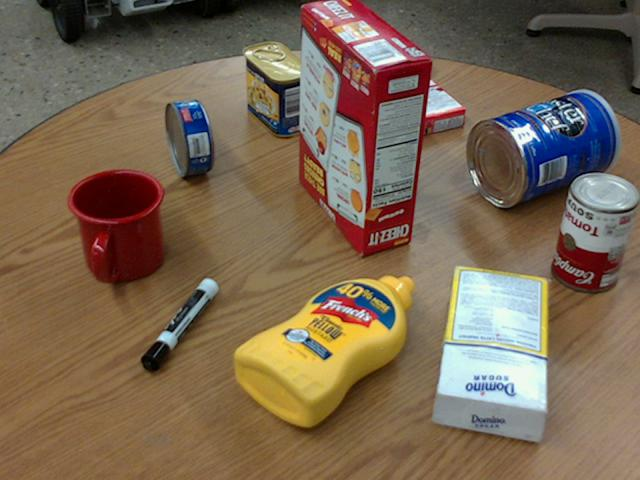cracker_box: (296, 0, 431, 254)
gelatin_box: (382, 79, 464, 136)
large_marker: (140, 277, 216, 370)
master_chef_can: (466, 89, 618, 206)
mug: (66, 169, 164, 283)
mustard_bottle: (232, 275, 413, 428)
potted_meat_can: (241, 42, 311, 136)
sugar_box: (433, 265, 548, 440)
tomato_soup_can: (551, 170, 637, 289)
tuna_fish_can: (165, 100, 212, 176)
